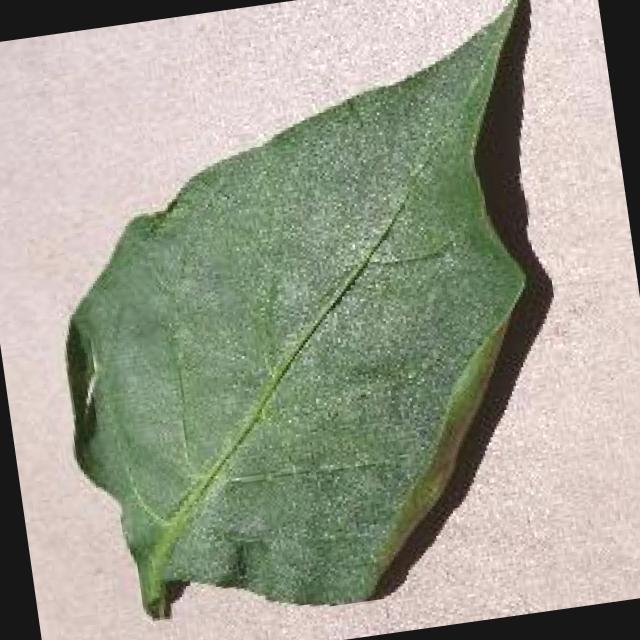Leaf: (131, 177, 448, 430), (347, 47, 502, 166)
